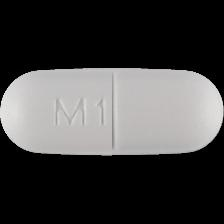51079-747: (0, 0, 224, 224)
